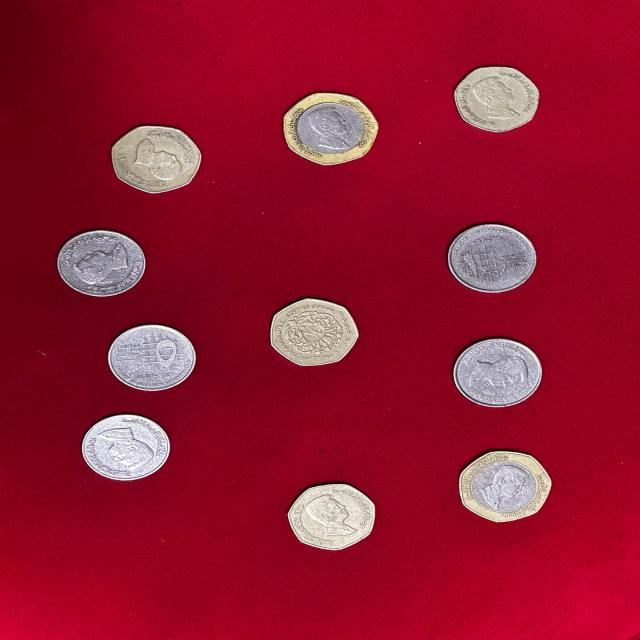10-coins: (444, 223, 540, 294), (453, 336, 546, 408)
25-coins: (267, 297, 361, 367), (110, 125, 202, 194), (286, 482, 378, 551), (453, 64, 543, 134)
5-coins: (55, 229, 148, 298), (107, 324, 199, 392), (79, 414, 171, 481)
50-coins: (280, 89, 381, 167), (456, 451, 556, 523)
